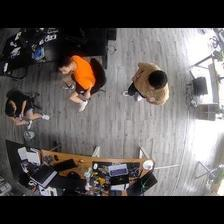normal: (58, 53, 109, 111), (123, 61, 170, 109), (2, 89, 50, 127)
